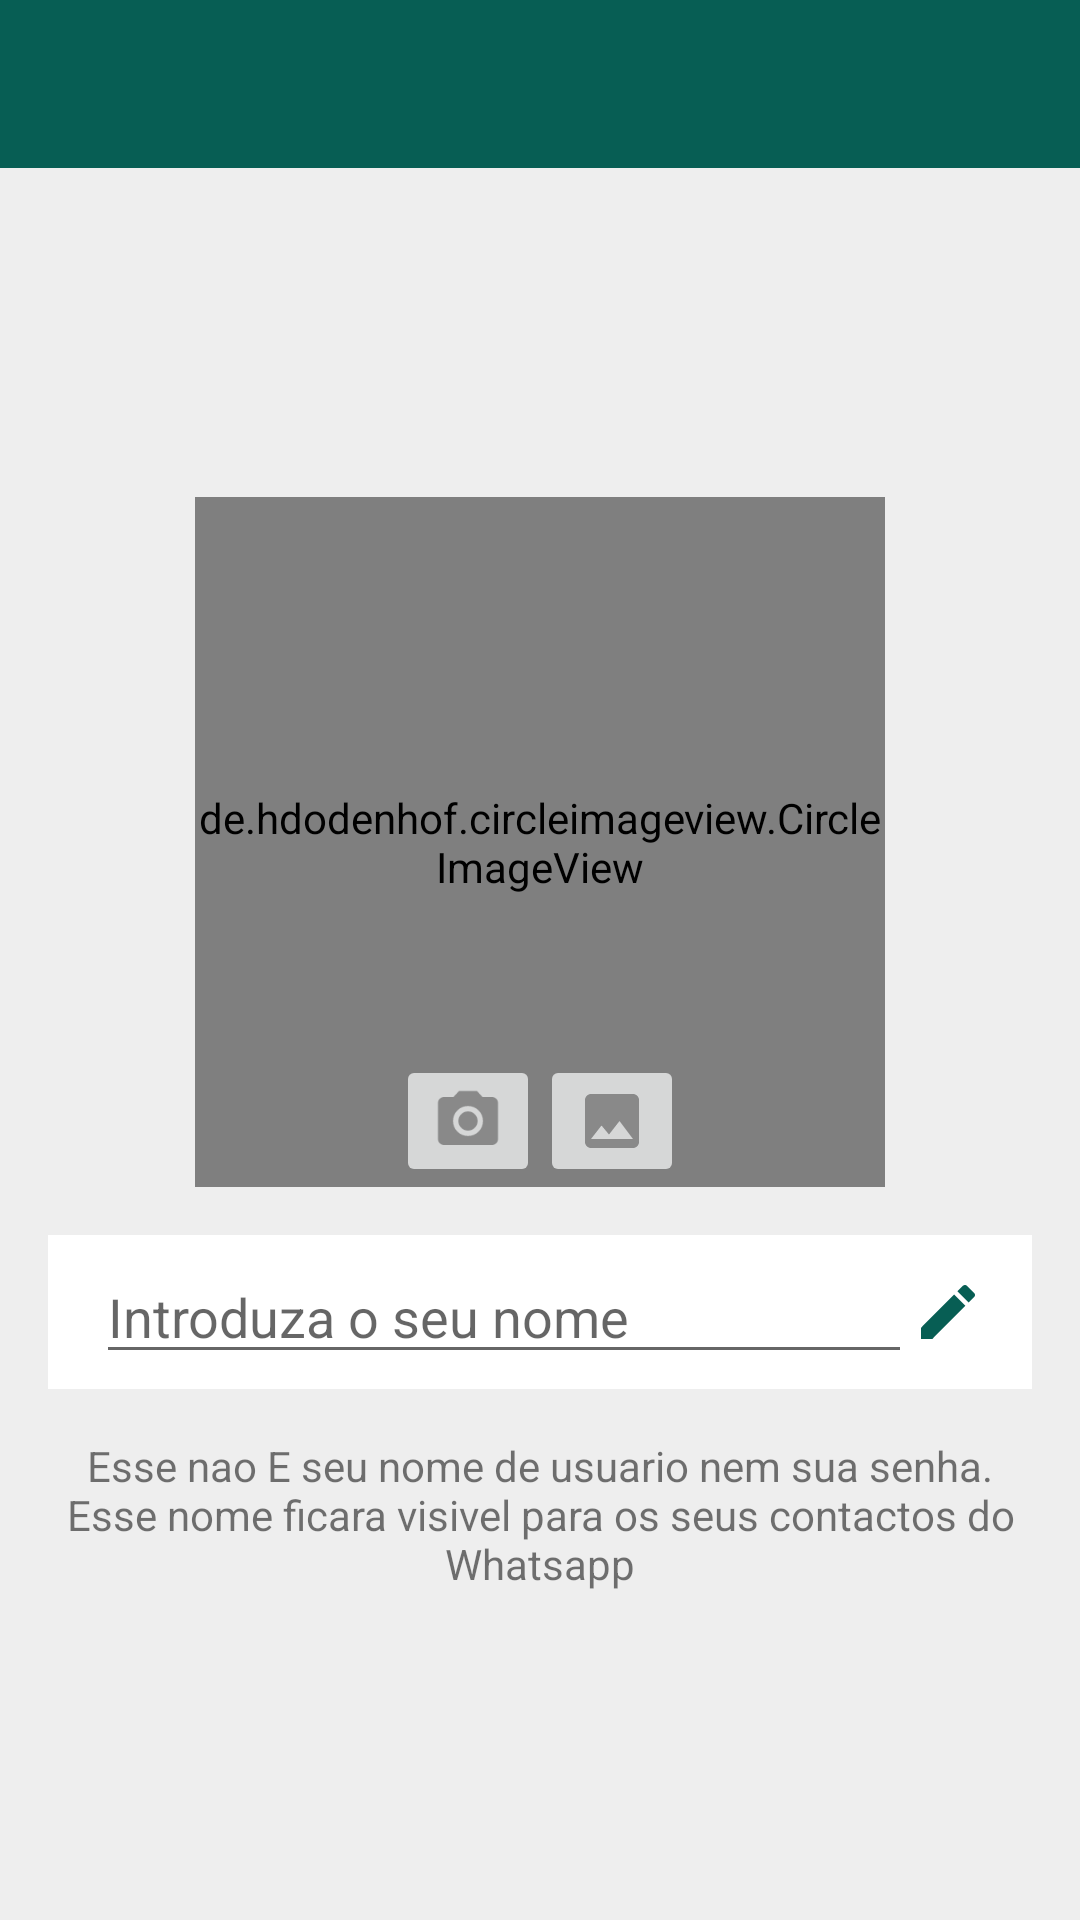

Where to tap for icons on this 1080px×1920px app screen, as (x=x, y=y):
edit: (x=948, y=1312)
photo camera cinza: (x=468, y=1121)
photo cinza: (x=612, y=1121)
